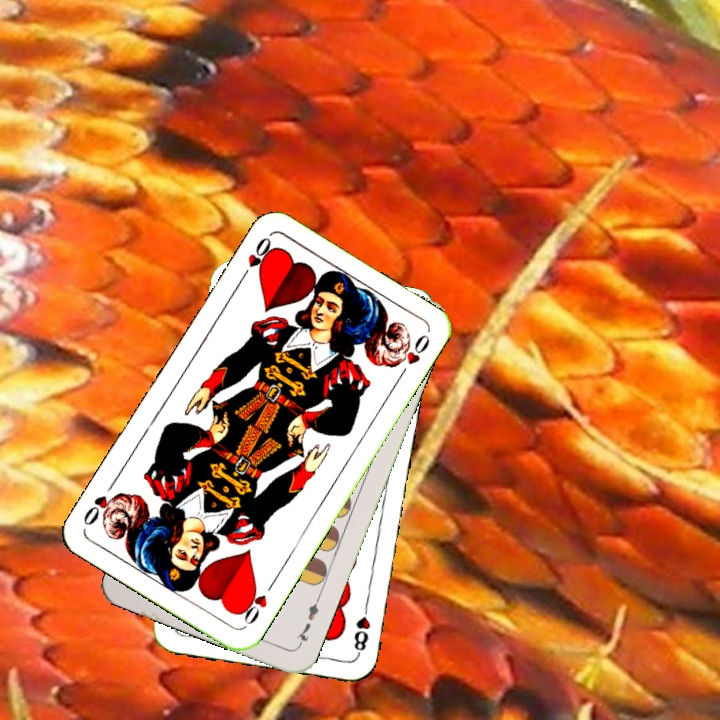E7: (292, 593, 323, 650)
H8: (350, 599, 373, 658)
HO: (235, 576, 278, 630), (235, 233, 276, 285)
